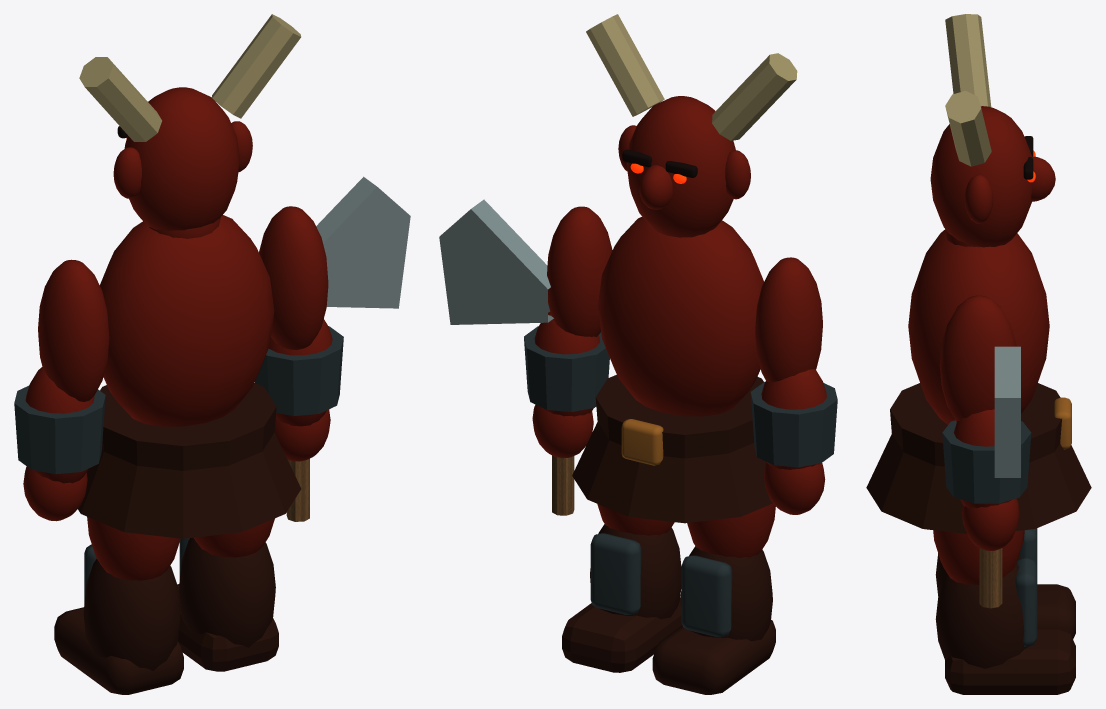
Rendered from fallen.glb.
3 views of the same model, side by side, from view 1: azimuth 30°, elevation 25°; view 2: azimuth 150°, elevation 25°; view 3: azimuth 270°, elevation 25° (orthographic). The views are drawn at different scales.
Parts seen in each view (by area): view 1: Neck, Waist belt, Foot, Forearm, Boot.001, Upper arm.001, Forged axe blade, Demon horns, Bracer, Bracer.001, Thigh, Thigh.001 (+1 smaller); view 2: Neck, Waist belt, Forearm, Upper arm.001, Forged axe blade, Foot, Boot.001, Demon horns, Bracer, Bracer.001, Shin guard.001, Shin guard (+5 smaller); view 3: Neck, Waist belt, Boot.001, Upper arm.001, Demon horns, Bracer.001, Forged axe blade, Thigh.001, Foot, Shin guard.001, Weapon haft, Belt clasp (+1 smaller).
Part boxes in pixels (x1=…): Neck: x1=100, y1=87, x2=274, y2=426; Waist belt: x1=78, y1=383, x2=301, y2=538; Foot: x1=54, y1=559, x2=183, y2=694; Forearm: x1=23, y1=259, x2=109, y2=521; Boot.001: x1=177, y1=537, x2=278, y2=671; Upper arm.001: x1=259, y1=206, x2=332, y2=461; Forged axe blade: x1=316, y1=176, x2=410, y2=308; Demon horns: x1=79, y1=14, x2=301, y2=141; Bracer: x1=14, y1=385, x2=105, y2=474; Bracer.001: x1=255, y1=326, x2=343, y2=415; Thigh: x1=87, y1=516, x2=180, y2=580; Thigh.001: x1=194, y1=518, x2=274, y2=557; Neck: x1=598, y1=96, x2=763, y2=416; Waist belt: x1=572, y1=374, x2=772, y2=523; Forearm: x1=755, y1=257, x2=826, y2=514; Upper arm.001: x1=532, y1=206, x2=612, y2=458; Forged axe blade: x1=439, y1=199, x2=553, y2=324; Foot: x1=652, y1=546, x2=775, y2=694; Boot.001: x1=562, y1=524, x2=682, y2=672; Demon horns: x1=586, y1=14, x2=797, y2=140; Bracer: x1=750, y1=382, x2=837, y2=467; Bracer.001: x1=524, y1=326, x2=609, y2=411; Shin guard.001: x1=590, y1=533, x2=641, y2=614; Shin guard: x1=681, y1=555, x2=732, y2=637; Neck: x1=908, y1=106, x2=1055, y2=424; Waist belt: x1=866, y1=383, x2=1091, y2=533; Boot.001: x1=935, y1=563, x2=1075, y2=694; Upper arm.001: x1=939, y1=295, x2=1019, y2=550; Demon horns: x1=945, y1=14, x2=991, y2=166; Bracer.001: x1=942, y1=420, x2=1031, y2=503; Forged axe blade: x1=994, y1=346, x2=1020, y2=477; Thigh.001: x1=933, y1=530, x2=1024, y2=584; Foot: x1=935, y1=553, x2=1075, y2=639; Shin guard.001: x1=1015, y1=558, x2=1037, y2=646; Weapon haft: x1=979, y1=548, x2=1002, y2=608; Belt clasp: x1=1054, y1=397, x2=1071, y2=449.
Size of the model in its own units: 1.65 by 2.59 by 0.86.
Materials: 9 (1 with a texture image).
